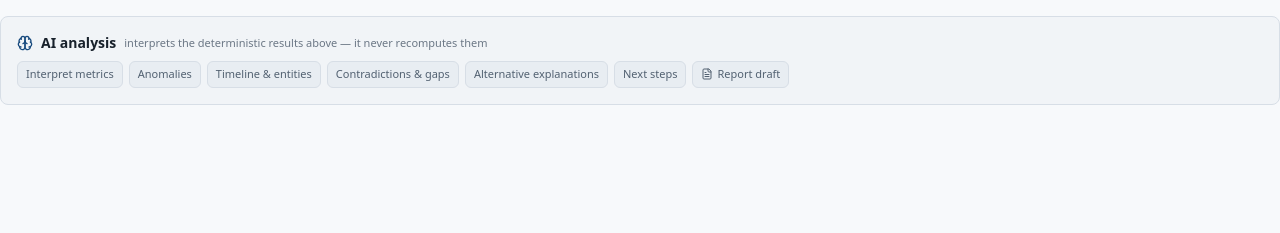
Test: AnalysisPanel › requests analysis mode with the think budget on the bound case
Click the button with test id "analysis-action-interpret": (70, 74) [17, 61, 123, 88]
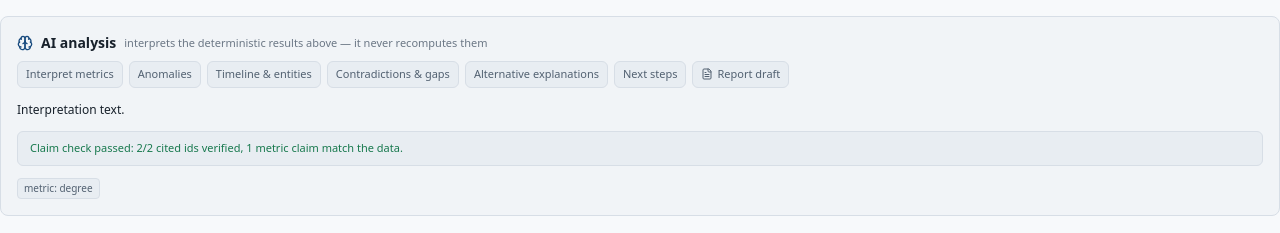
Check: the element with test id "analysis-answer" is shown, box [17, 100, 124, 118]
Check: the element with test id "analysis-citation-check" shows "Claim check passed: 2/2", box [30, 140, 403, 155]
Check: the list with test id "analysis-sources" shows "degree", box [59, 180, 93, 194]
